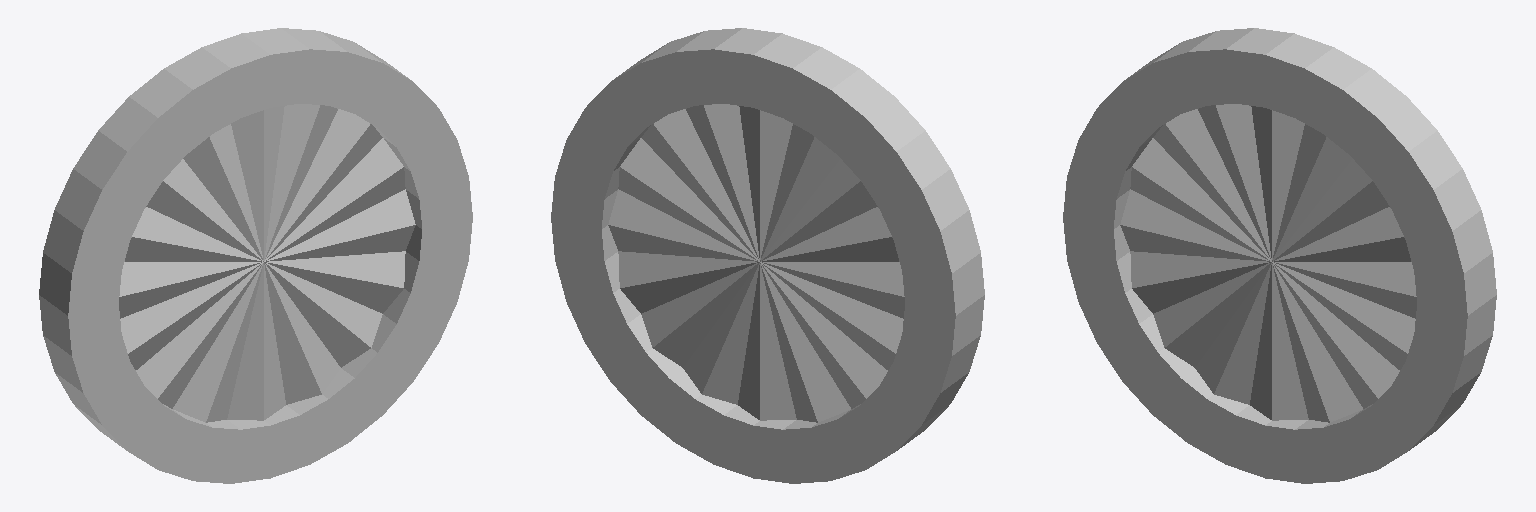
Rendered from coin.obj.
The picture shows the model from 3 angles: view 1: azimuth 30°, elevation 25°; view 2: azimuth 150°, elevation 25°; view 3: azimuth 330°, elevation 25°; orthographic projection.
Visible parts, largest first — view 1: Mesh1 Model; view 2: Mesh1 Model; view 3: Mesh1 Model.
Part boxes in pixels (left/top/right/bottom): Mesh1 Model: left=39, top=28, right=472, bottom=483; Mesh1 Model: left=551, top=28, right=984, bottom=483; Mesh1 Model: left=1063, top=28, right=1496, bottom=483.
Bounding box in the file's own units: 12 × 12 × 1.5.